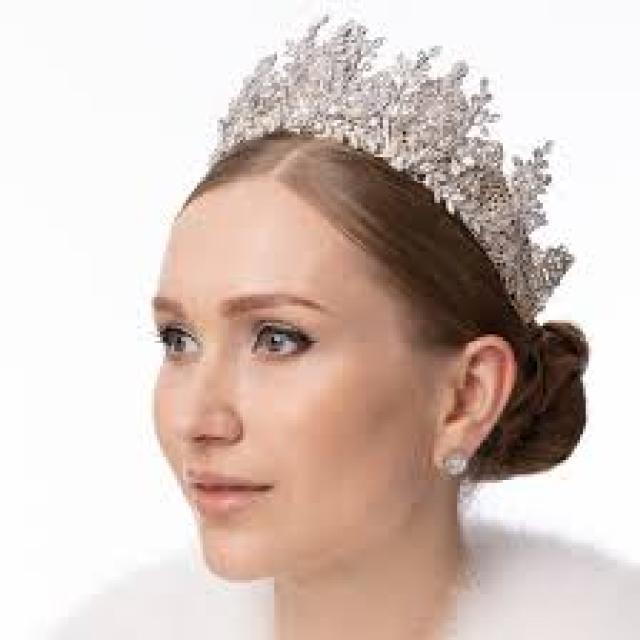Earring: (432, 442, 474, 489)
